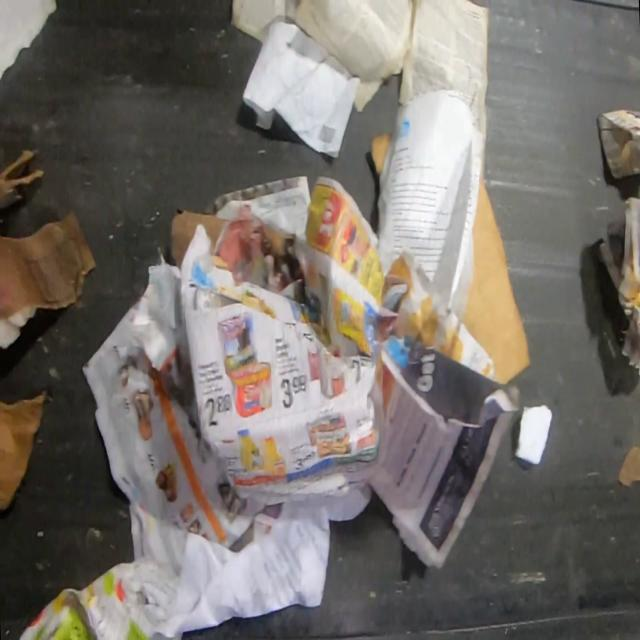cardboard: (458, 170, 530, 385), (0, 209, 96, 319), (0, 392, 47, 516), (169, 207, 226, 266), (369, 130, 393, 177)
